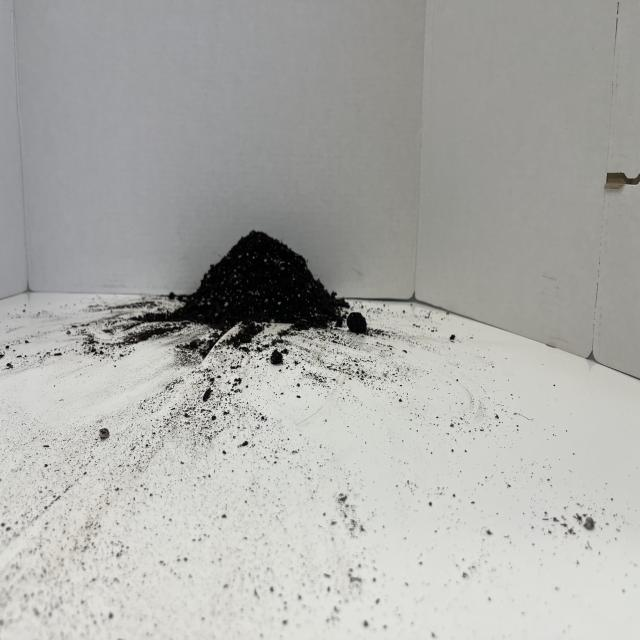soil: (170, 227, 351, 333)
